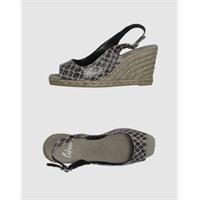shoe: (48, 23, 158, 87), (42, 128, 156, 172)
